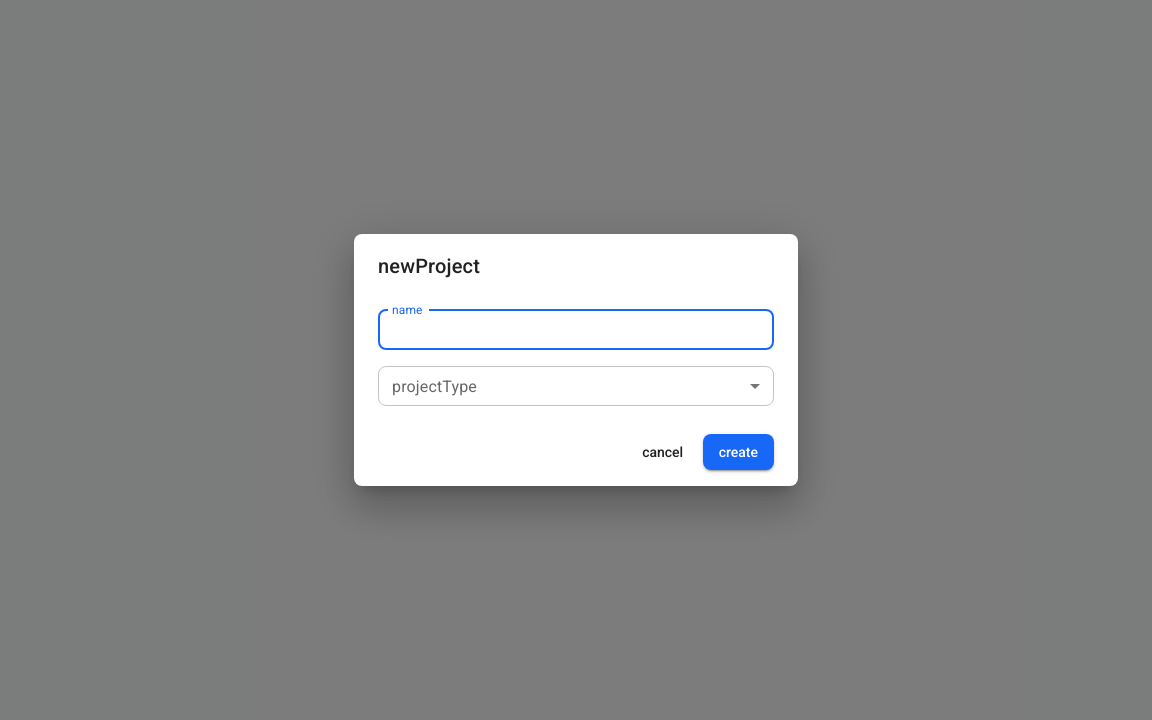
CreateProjectDialog › on error: shows the error alert and keeps the dialog open
Type "Shop" into the field labelled "name" at (576, 330), box x1=378 y1=310 x2=774 y2=350
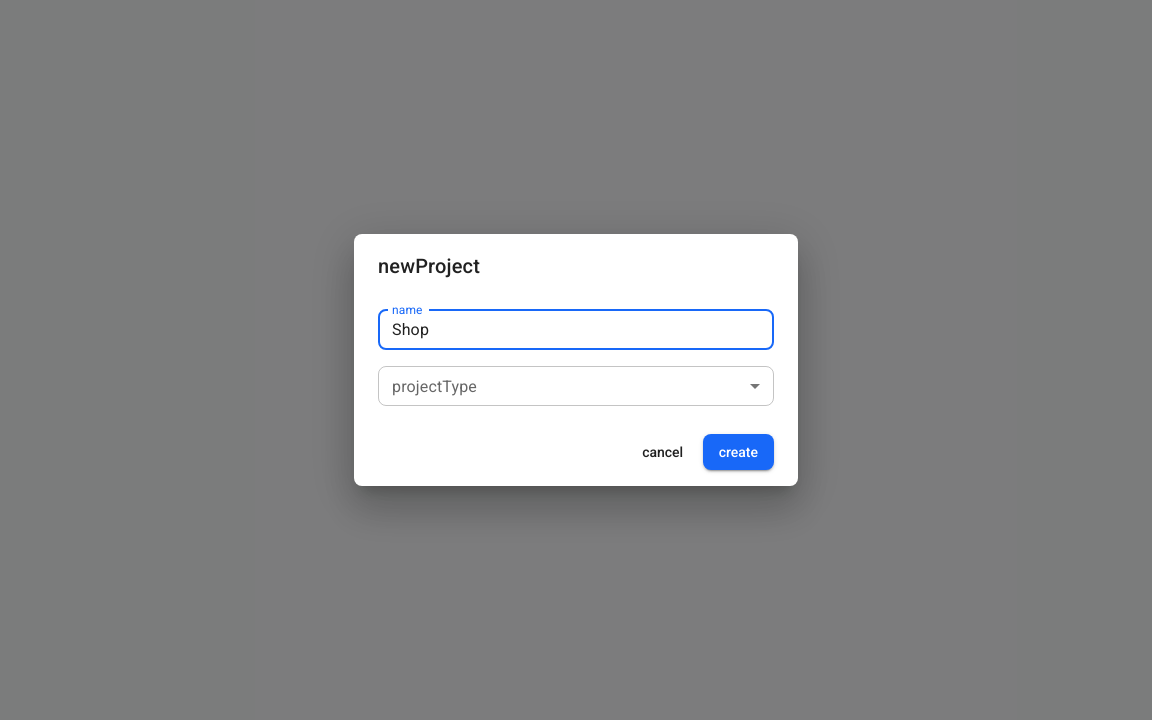
Press the mouse on the dropdown at (576, 386), box x1=378 y1=366 x2=774 y2=406
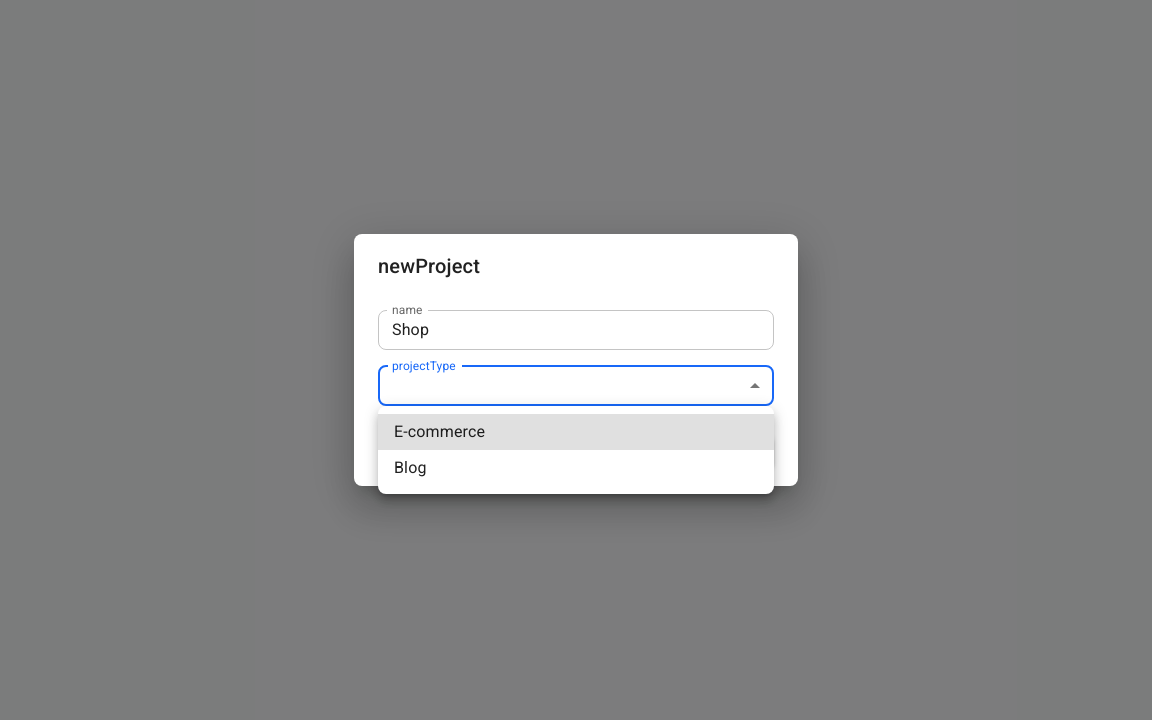
Click the option "Blog" at (410, 468), box x1=394 y1=458 x2=427 y2=477
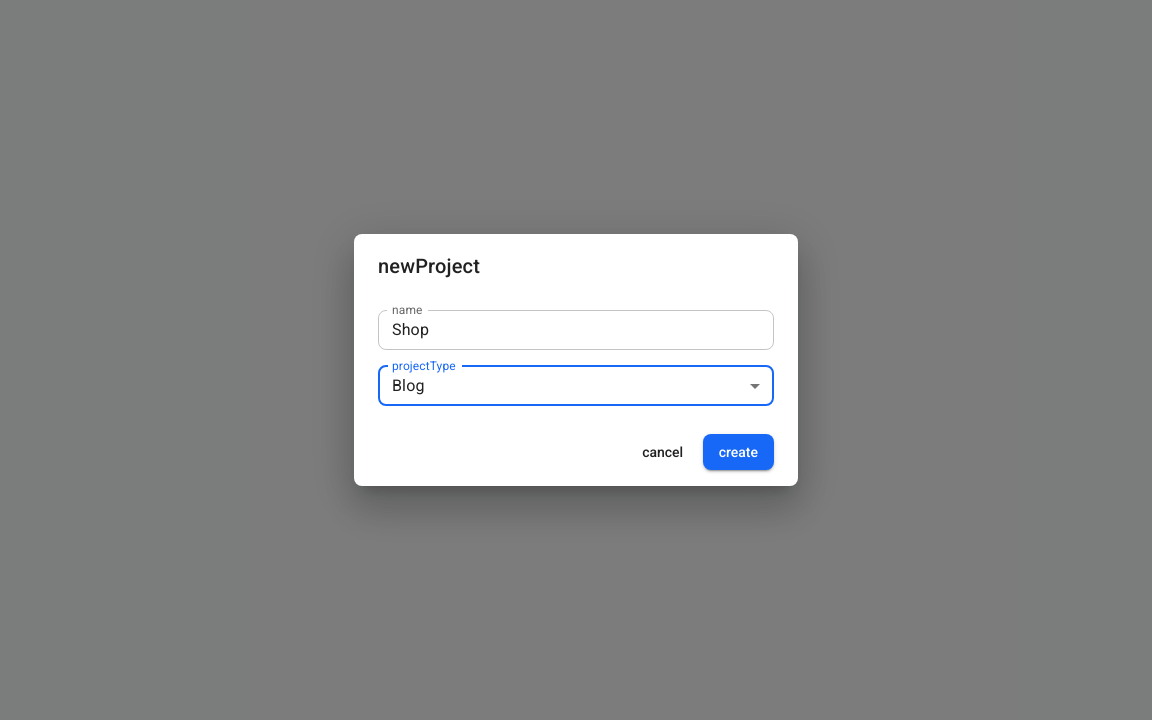
Submit the form "newProject name projectType Blog cancel create", box x1=354 y1=234 x2=798 y2=486
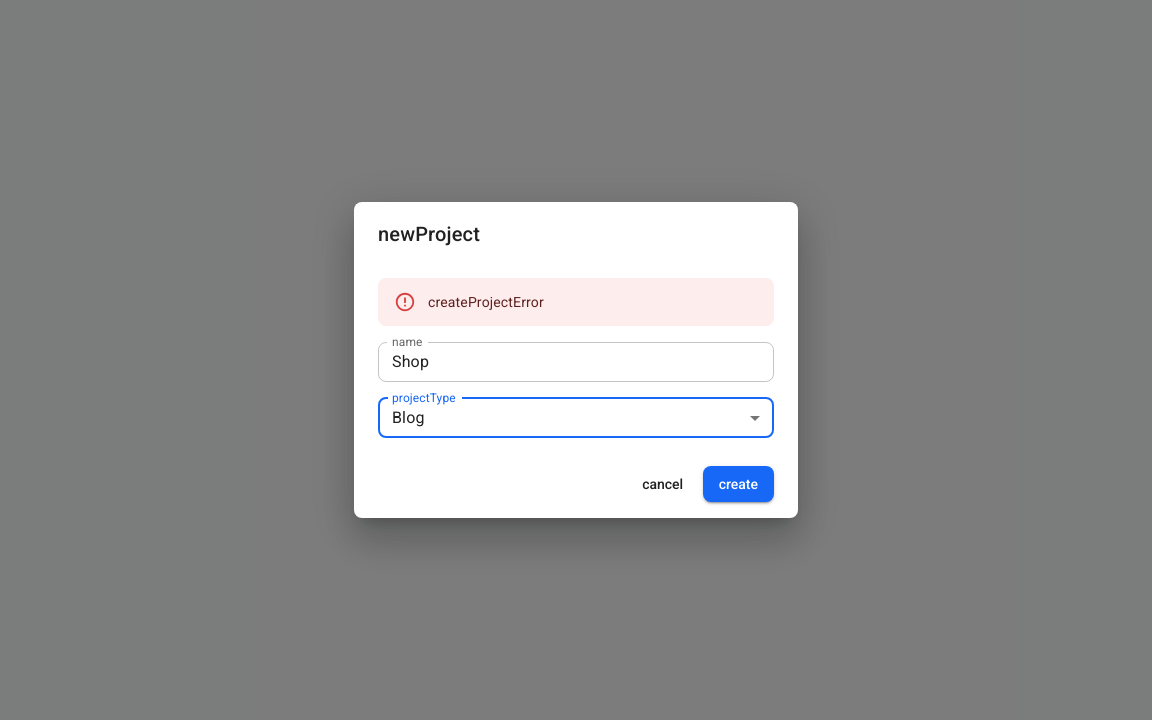
Expected: the message reads "createProjectError", x1=428 y1=294 x2=544 y2=310
